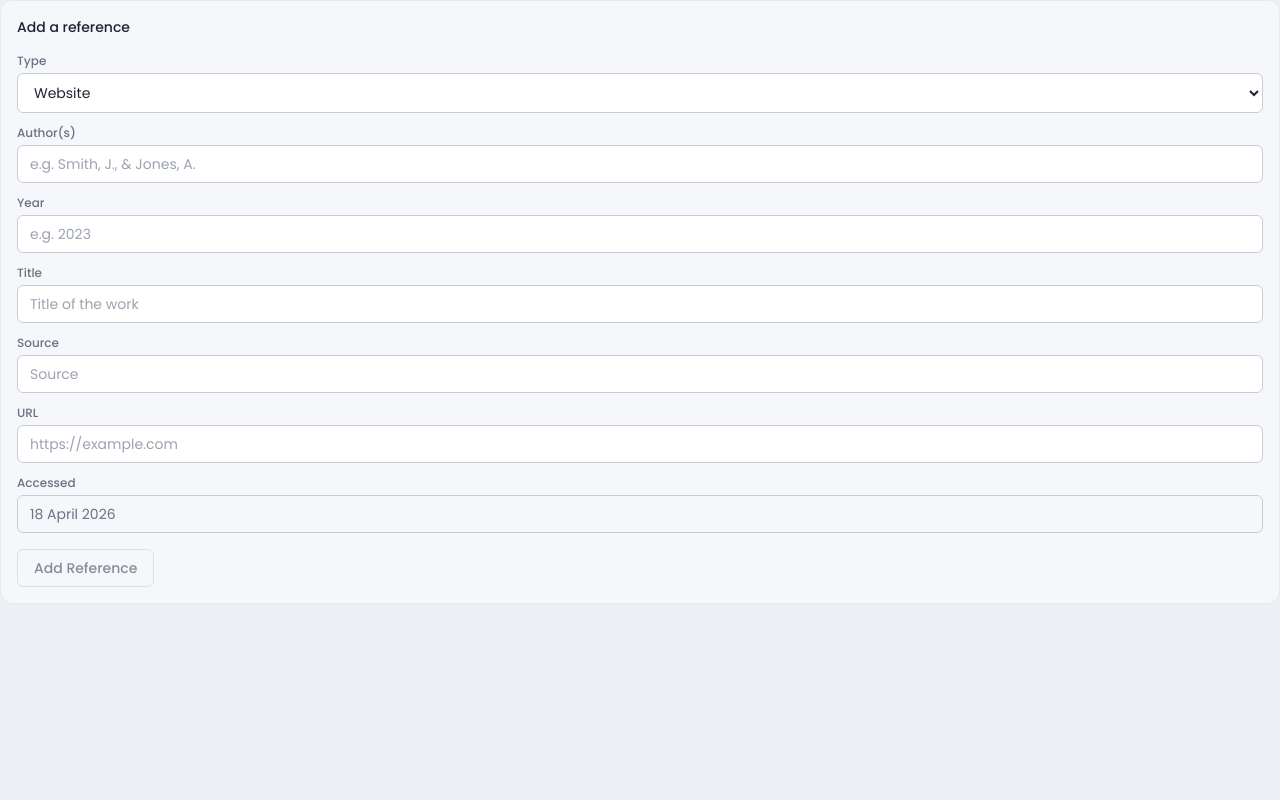
Test: ReferenceBuilder › switches to Book: hides URL and Accessed, shows Publisher label
Select "Book" in the dropdown labelled "Type" at (640, 93), box [17,73,1263,113]
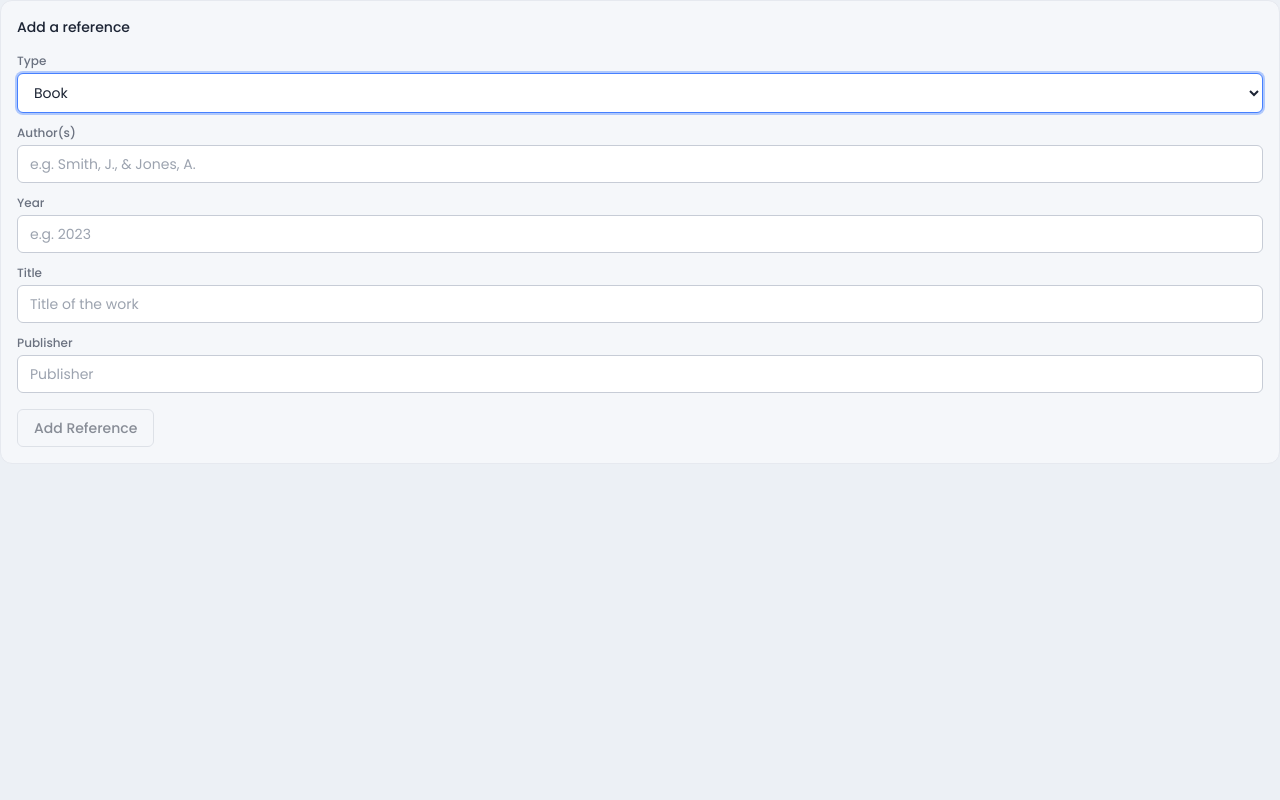
Expected: the label labelled "URL" is gone
Expected: the label labelled "Accessed" is gone
Expected: the field labelled "Publisher" is shown, [17,355,1263,393]
